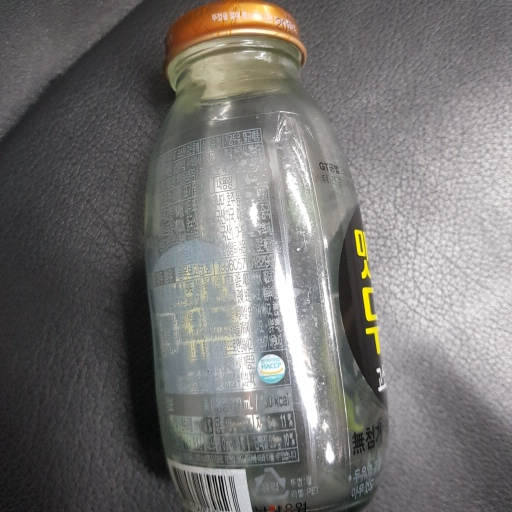Glass_4: (119, 1, 397, 512)
